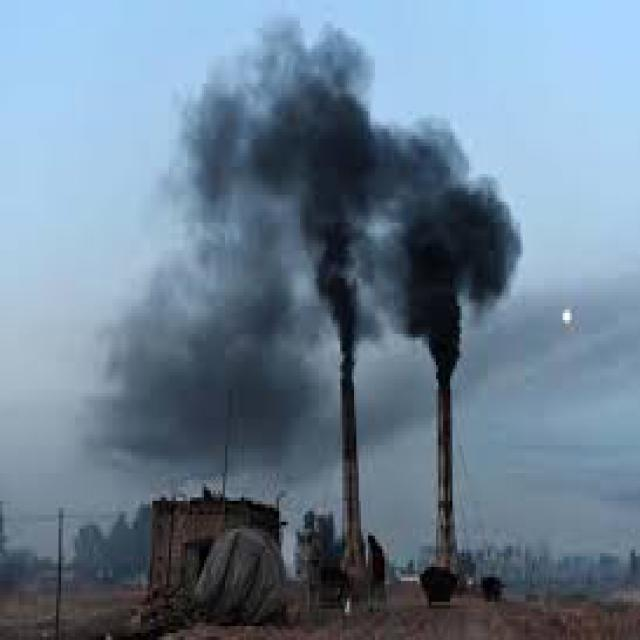smoke: (117, 4, 537, 484)
